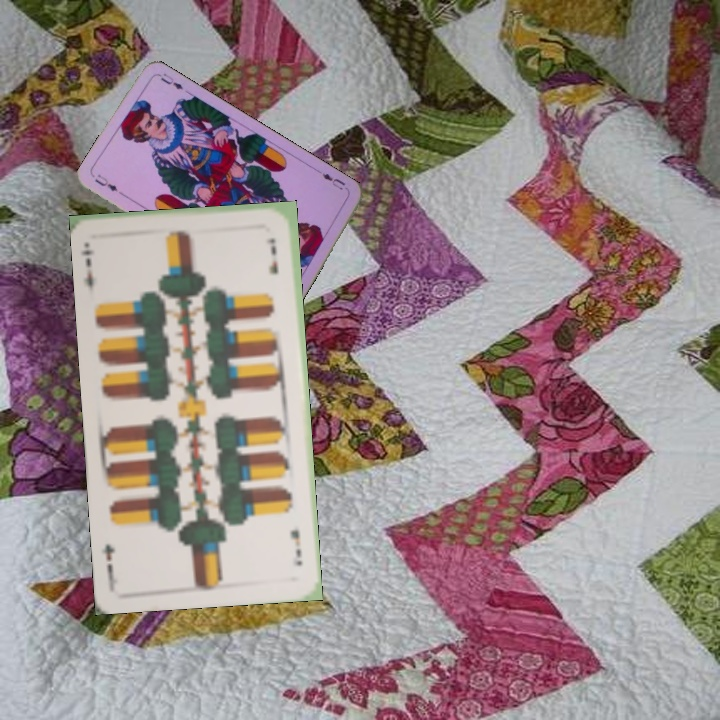E7: (78, 246, 96, 298), (286, 525, 305, 568)
EU: (318, 169, 351, 194), (91, 170, 120, 194)
